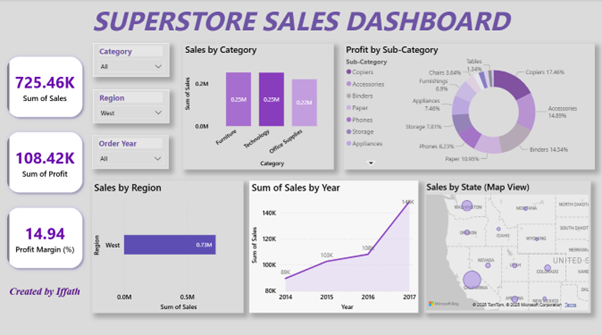

This screenshot's page, from the dashboard's own definition file:
{"tool":"powerbi","page":{"name":"Page 1","canvas":[1280,720],"ordinal":0},"visuals":[{"type":"clusteredColumnChart","title":"Sales by Category","fields":{"Category":["Cleaned_Superstore.Category"],"Y":["Sum(Cleaned_Superstore.Sales)"]},"box":[389.7,92.5,320.1,267.1],"z":0},{"type":"donutChart","title":"Profit by Sub-Category","fields":{"Category":["Cleaned_Superstore.Sub-Category"],"Y":["Sum(Cleaned_Superstore.Profit)"]},"box":[730.6,92.5,532.1,267.1],"z":1000},{"type":"barChart","title":"Sales by Region","fields":{"Category":["Cleaned_Superstore.Region"],"Y":["Sum(Cleaned_Superstore.Sales)"]},"box":[196.3,384,321.4,280.2],"z":2000},{"type":"map","title":"Sales by State (Map View)","fields":{"Category":["Cleaned_Superstore.State"],"Size":["Sum(Cleaned_Superstore.Sales)"]},"box":[901.7,384,352.7,280.2],"z":3000},{"type":"textbox","box":[16.6,0,1246.1,103.9],"z":4000},{"type":"textbox","box":[16.6,601.7,167.3,35.3],"z":5000},{"type":"cardVisual","fields":{"Data":["Sum(Cleaned_Superstore.Sales)","Sum(Cleaned_Superstore.Profit)","Cleaned_Superstore.Profit Margin (%)"]},"box":[0,103.9,194.3,483.3],"z":6000},{"type":"lineChart","fields":{"Category":["Cleaned_Superstore.Order Date.Variation.Date Hierarchy.Year","Cleaned_Superstore.Order Date.Variation.Date Hierarchy.Quarter","Cleaned_Superstore.Order Date.Variation.Date Hierarchy.Month","Cleaned_Superstore.Order Date.Variation.Date Hierarchy.Day"],"Y":["Sum(Cleaned_Superstore.Sales)"]},"box":[530.5,384,358.4,280.2],"z":7000},{"type":"slicer","fields":{"Values":["Cleaned_Superstore.Category"]},"box":[199.3,92.5,162,71.2],"z":8000},{"type":"slicer","fields":{"Values":["Cleaned_Superstore.Region"]},"box":[199.3,190.4,162,71.2],"z":8001},{"type":"slicer","fields":{"Values":["Cleaned_Superstore.Order Year"]},"box":[197.6,288.3,162,71.2],"z":8002}]}

Visuals, with their boxes in screenshot pixels (x1, y1, x2, y2), scaled from the page's 1280x720 canvas onto the 602x335 screenshot:
"Sales by Category" clusteredColumnChart: <box>183,43,334,167</box>
"Profit by Sub-Category" donutChart: <box>344,43,594,167</box>
"Sales by Region" barChart: <box>92,179,243,309</box>
"Sales by State (Map View)" map: <box>424,179,590,309</box>
textbox: <box>8,0,594,48</box>
textbox: <box>8,280,86,296</box>
cardVisual - Sum(Cleaned_Superstore.Sales) x Sum(Cleaned_Superstore.Profit): <box>0,48,91,273</box>
lineChart - Cleaned_Superstore.Order Date.Variation.Date Hierarchy.Year x Cleaned_Superstore.Order Date.Variation.Date Hierarchy.Quarter: <box>250,179,418,309</box>
slicer - Cleaned_Superstore.Category: <box>94,43,170,76</box>
slicer - Cleaned_Superstore.Region: <box>94,89,170,122</box>
slicer - Cleaned_Superstore.Order Year: <box>93,134,169,167</box>
